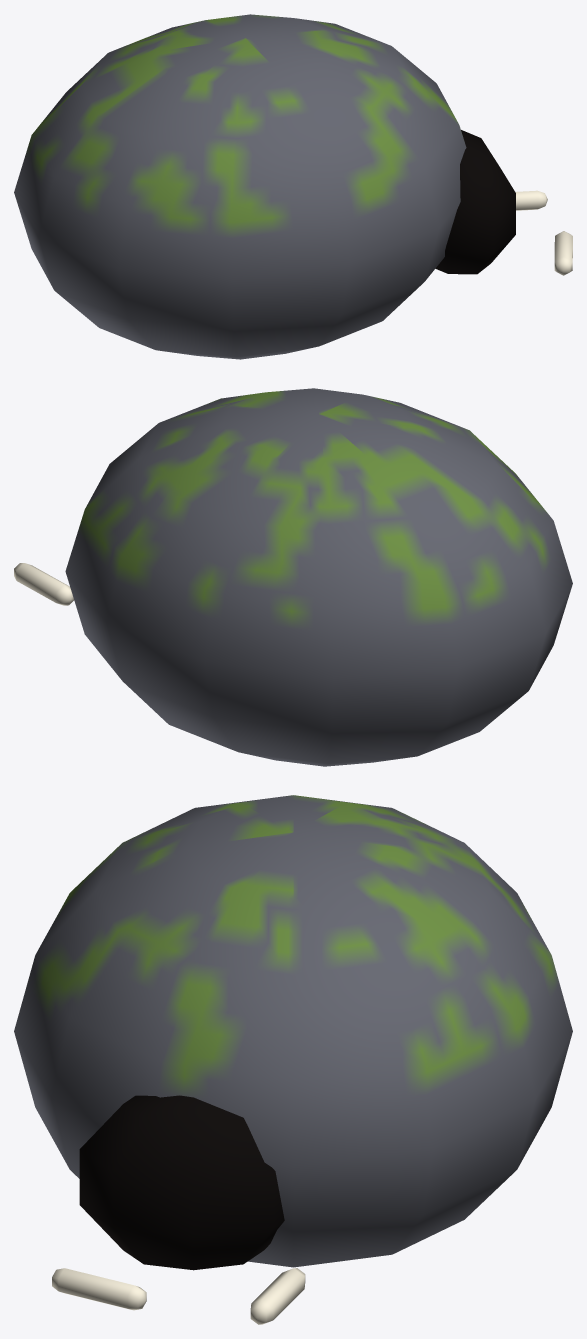
Rendered from prop_den_8b24.glb.
The picture shows the model from 3 angles, top to bottom: view 1: azimuth 30°, elevation 25°; view 2: azimuth 150°, elevation 25°; view 3: azimuth 270°, elevation 25°; orthographic projection. The views are drawn at different scales.
Visible parts, largest first — view 1: prop_den_8b24; view 2: prop_den_8b24; view 3: prop_den_8b24.
Part boxes in pixels (bbox=[...]): prop_den_8b24: bbox=[14, 14, 572, 359]; prop_den_8b24: bbox=[14, 388, 572, 766]; prop_den_8b24: bbox=[14, 795, 572, 1324].
Size of the model in its own units: 1.69 by 0.9722 by 1.24.
1 material, 1 textured.
